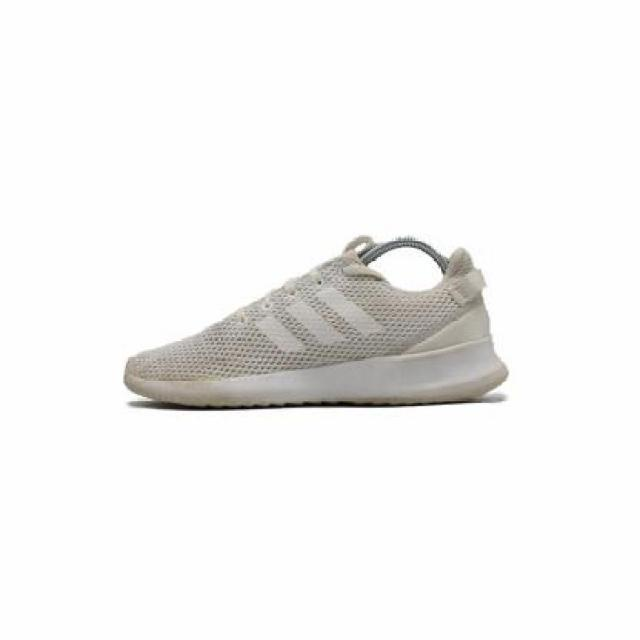Adidas: (240, 283, 388, 360)
